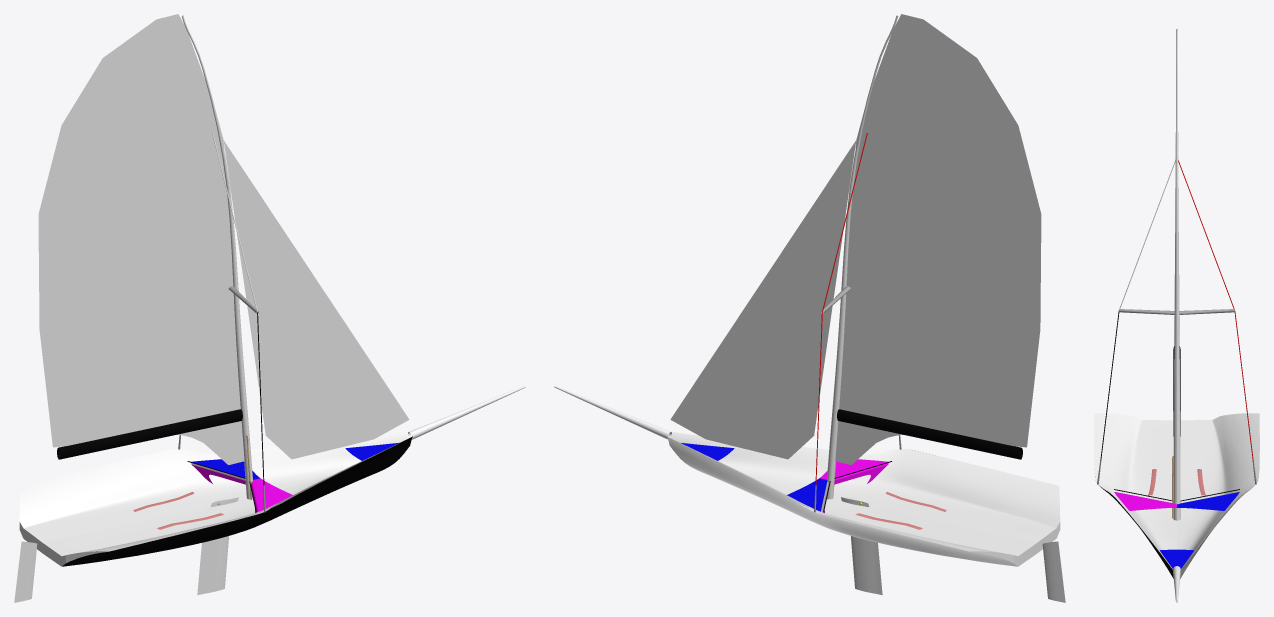
The picture shows the model from 3 angles, left to right: view 1: azimuth 30°, elevation 25°; view 2: azimuth 150°, elevation 25°; view 3: azimuth 270°, elevation 25°; orthographic projection. The views are drawn at different scales.
Visible parts, largest first — view 1: Brep -- a6f1afccaef8184e0905d237570114cf, Brep -- 739ea4ed8bceaa642109c8f4bb537c2f, TrimSurf -- af901bc04a8a87c922df7c7aad6249a3, TrimSurf -- 52b0180cd2f62fe74a212ba8d6a4eb6d, TrimSurf -- 0573f2502c9f81d6c09d22ad3b86d523, Brep -- 15cd0696a8d2d0d8ee0e99ddd02bed05, Brep -- 8ebfa9edaba008a8e063e866ebce175b, BS SURF -- 2f38c1c3ca6a9f585b4cf46309d4849b, BS SURF -- 5b7f0b4beafbe48bad2e928df093bac5, Brep -- e868e333cb70c5d7a252eb4914d0cef0, Brep -- 2009468531f43d0bbd63c2c3813fa34f; view 2: Brep -- a6f1afccaef8184e0905d237570114cf, Brep -- 739ea4ed8bceaa642109c8f4bb537c2f, TrimSurf -- 0573f2502c9f81d6c09d22ad3b86d523, TrimSurf -- f743f1fb937a7a000e72cdb8a03643d5, TrimSurf -- af901bc04a8a87c922df7c7aad6249a3, Brep -- 15cd0696a8d2d0d8ee0e99ddd02bed05, Brep -- 8ebfa9edaba008a8e063e866ebce175b, BS SURF -- 541a1dceb0d291e31ef4faa18b200eaf, BS SURF -- d05dbee5e71071e1c09f9e8e87f75512, Brep -- e868e333cb70c5d7a252eb4914d0cef0, Brep -- 2009468531f43d0bbd63c2c3813fa34f, Brep -- 8afc1c198953b5abcbd07b2d56a7ca8c; view 3: TrimSurf -- af901bc04a8a87c922df7c7aad6249a3, TrimSurf -- 0573f2502c9f81d6c09d22ad3b86d523, Brep -- 15cd0696a8d2d0d8ee0e99ddd02bed05, Brep -- e868e333cb70c5d7a252eb4914d0cef0, Brep -- 8afc1c198953b5abcbd07b2d56a7ca8c, Brep -- fc231b27f6b699fd582ef61719638850, TrimSurf -- f743f1fb937a7a000e72cdb8a03643d5, TrimSurf -- 52b0180cd2f62fe74a212ba8d6a4eb6d, Brep -- a60b44340458d53344af920120f2e7f5, Brep -- 0d005161e63d36314af253503f0fe41d.
Boxes of the visible parts, left/top/right/bottom form: Brep -- a6f1afccaef8184e0905d237570114cf: left=38, top=14, right=244, bottom=464; Brep -- 739ea4ed8bceaa642109c8f4bb537c2f: left=223, top=140, right=409, bottom=459; TrimSurf -- af901bc04a8a87c922df7c7aad6249a3: left=19, top=432, right=409, bottom=542; TrimSurf -- 52b0180cd2f62fe74a212ba8d6a4eb6d: left=62, top=436, right=412, bottom=566; TrimSurf -- 0573f2502c9f81d6c09d22ad3b86d523: left=43, top=438, right=408, bottom=556; Brep -- 15cd0696a8d2d0d8ee0e99ddd02bed05: left=181, top=15, right=252, bottom=499; Brep -- 8ebfa9edaba008a8e063e866ebce175b: left=57, top=409, right=242, bottom=459; BS SURF -- 2f38c1c3ca6a9f585b4cf46309d4849b: left=197, top=536, right=228, bottom=595; BS SURF -- 5b7f0b4beafbe48bad2e928df093bac5: left=14, top=541, right=37, bottom=602; Brep -- e868e333cb70c5d7a252eb4914d0cef0: left=251, top=478, right=292, bottom=512; Brep -- 2009468531f43d0bbd63c2c3813fa34f: left=408, top=386, right=525, bottom=439; Brep -- a6f1afccaef8184e0905d237570114cf: left=835, top=14, right=1041, bottom=465; Brep -- 739ea4ed8bceaa642109c8f4bb537c2f: left=670, top=140, right=856, bottom=459; TrimSurf -- 0573f2502c9f81d6c09d22ad3b86d523: left=670, top=432, right=1060, bottom=542; TrimSurf -- f743f1fb937a7a000e72cdb8a03643d5: left=667, top=436, right=1017, bottom=566; TrimSurf -- af901bc04a8a87c922df7c7aad6249a3: left=671, top=438, right=1036, bottom=556; Brep -- 15cd0696a8d2d0d8ee0e99ddd02bed05: left=827, top=15, right=898, bottom=499; Brep -- 8ebfa9edaba008a8e063e866ebce175b: left=837, top=409, right=1022, bottom=459; BS SURF -- 541a1dceb0d291e31ef4faa18b200eaf: left=851, top=536, right=882, bottom=595; BS SURF -- d05dbee5e71071e1c09f9e8e87f75512: left=1042, top=541, right=1065, bottom=602; Brep -- e868e333cb70c5d7a252eb4914d0cef0: left=820, top=459, right=888, bottom=484; Brep -- 2009468531f43d0bbd63c2c3813fa34f: left=554, top=386, right=671, bottom=439; Brep -- 8afc1c198953b5abcbd07b2d56a7ca8c: left=787, top=478, right=826, bottom=511; TrimSurf -- af901bc04a8a87c922df7c7aad6249a3: left=1177, top=413, right=1259, bottom=569; TrimSurf -- 0573f2502c9f81d6c09d22ad3b86d523: left=1094, top=413, right=1176, bottom=569; Brep -- 15cd0696a8d2d0d8ee0e99ddd02bed05: left=1173, top=29, right=1180, bottom=520; Brep -- e868e333cb70c5d7a252eb4914d0cef0: left=1114, top=492, right=1176, bottom=510; Brep -- 8afc1c198953b5abcbd07b2d56a7ca8c: left=1177, top=492, right=1239, bottom=510; Brep -- fc231b27f6b699fd582ef61719638850: left=1160, top=549, right=1193, bottom=568; TrimSurf -- f743f1fb937a7a000e72cdb8a03643d5: left=1180, top=485, right=1254, bottom=578; TrimSurf -- 52b0180cd2f62fe74a212ba8d6a4eb6d: left=1099, top=485, right=1173, bottom=578; Brep -- a60b44340458d53344af920120f2e7f5: left=1119, top=309, right=1174, bottom=314; Brep -- 0d005161e63d36314af253503f0fe41d: left=1179, top=309, right=1234, bottom=314.
Size of the model in its own units: 6.19 by 6.78 by 1.89.
